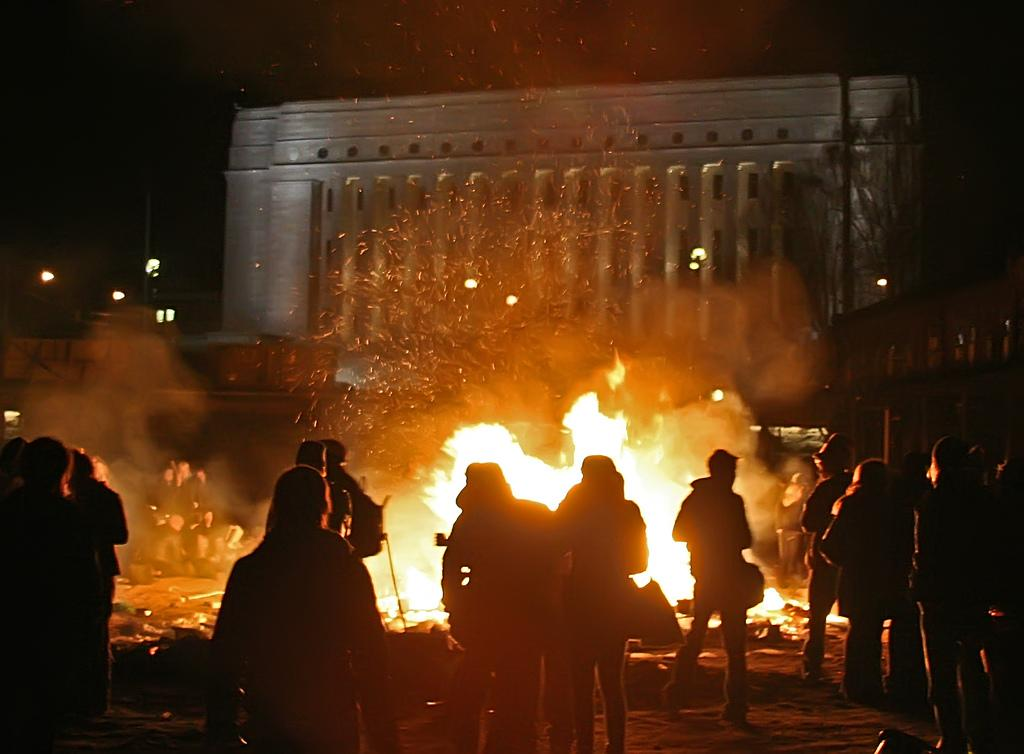fire: (520, 460, 572, 504), (578, 422, 638, 454), (652, 538, 686, 592), (462, 430, 514, 464)
